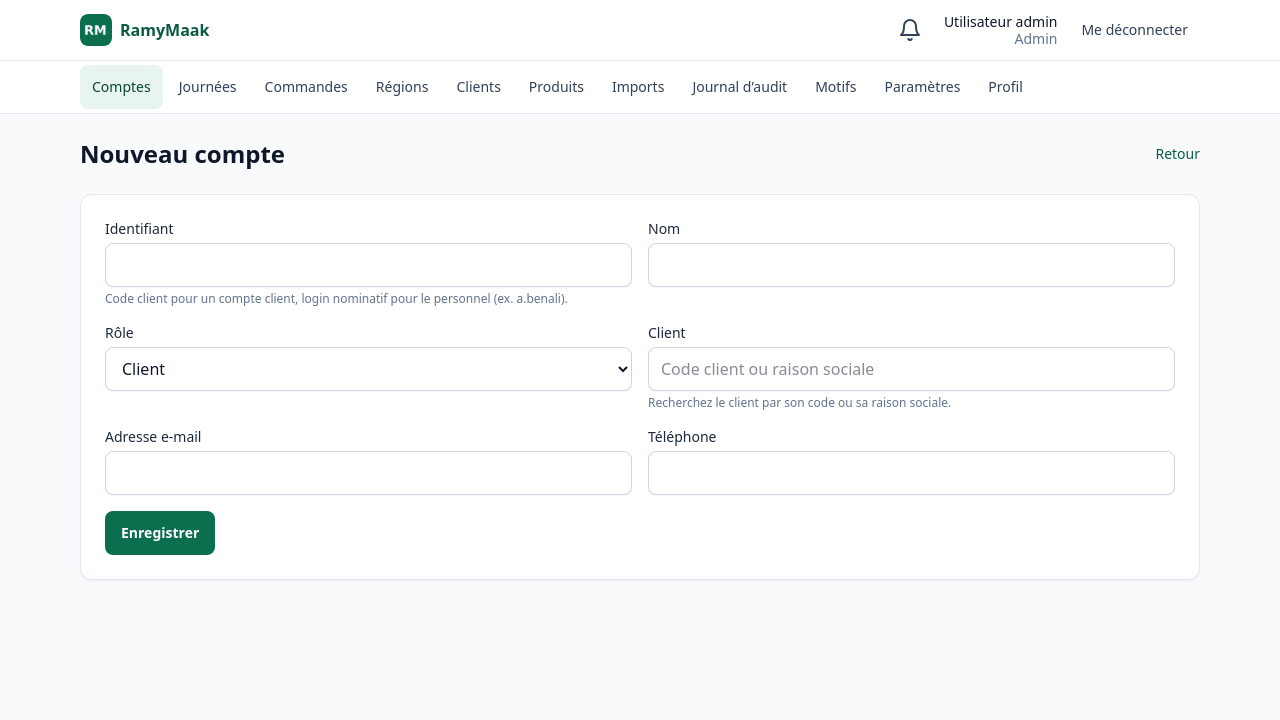
Test: admin — accounts › creates an account and shows the temporary password once
Type "C0012" into the field labelled "Identifiant". click: (368,265)
box: [105,243,632,287]
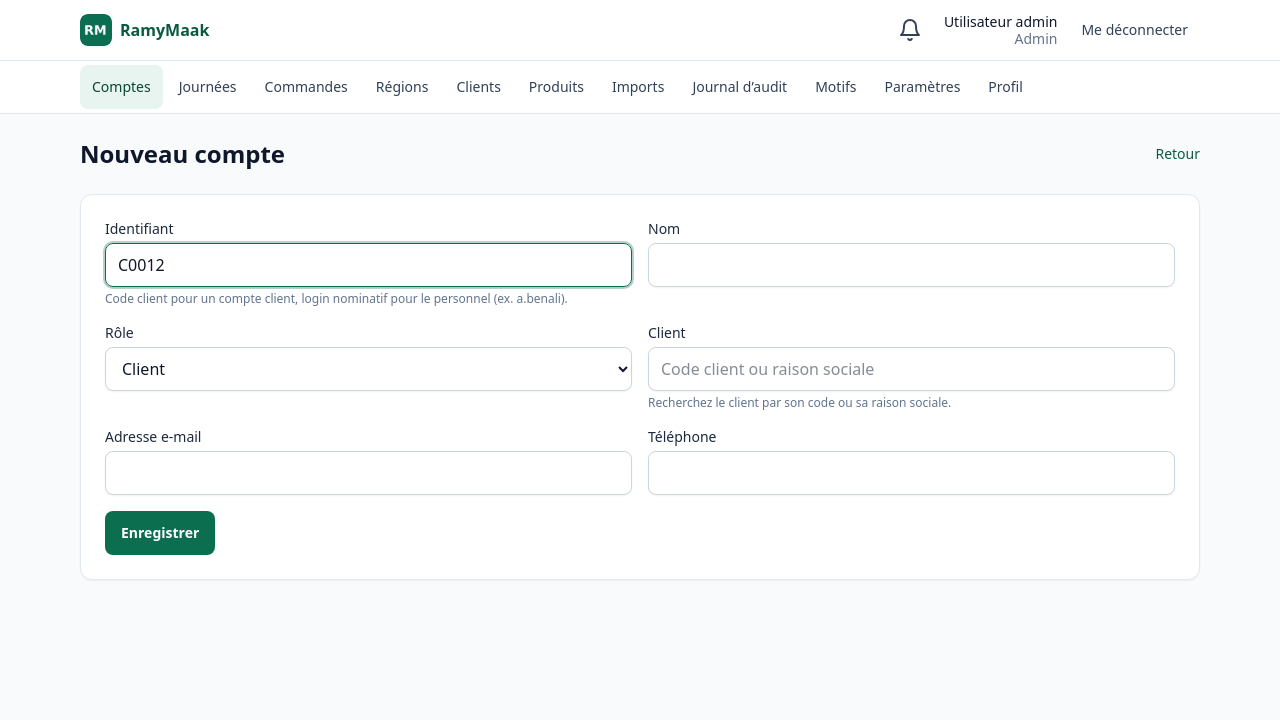
Type "Superette El Baraka" into the field labelled "Nom". click: (912,265)
box: [648,243,1175,287]
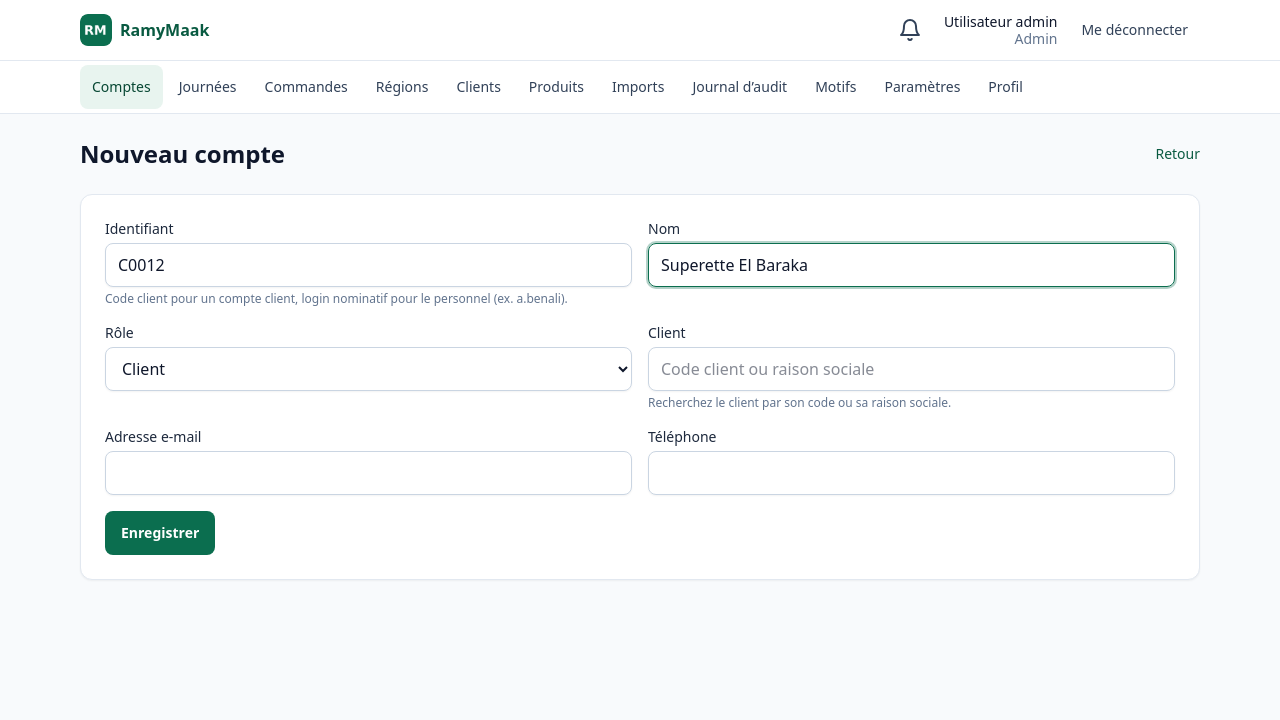
Type "baraka" into the search field labelled "Client". click: (912,369)
box: [648,347,1175,391]
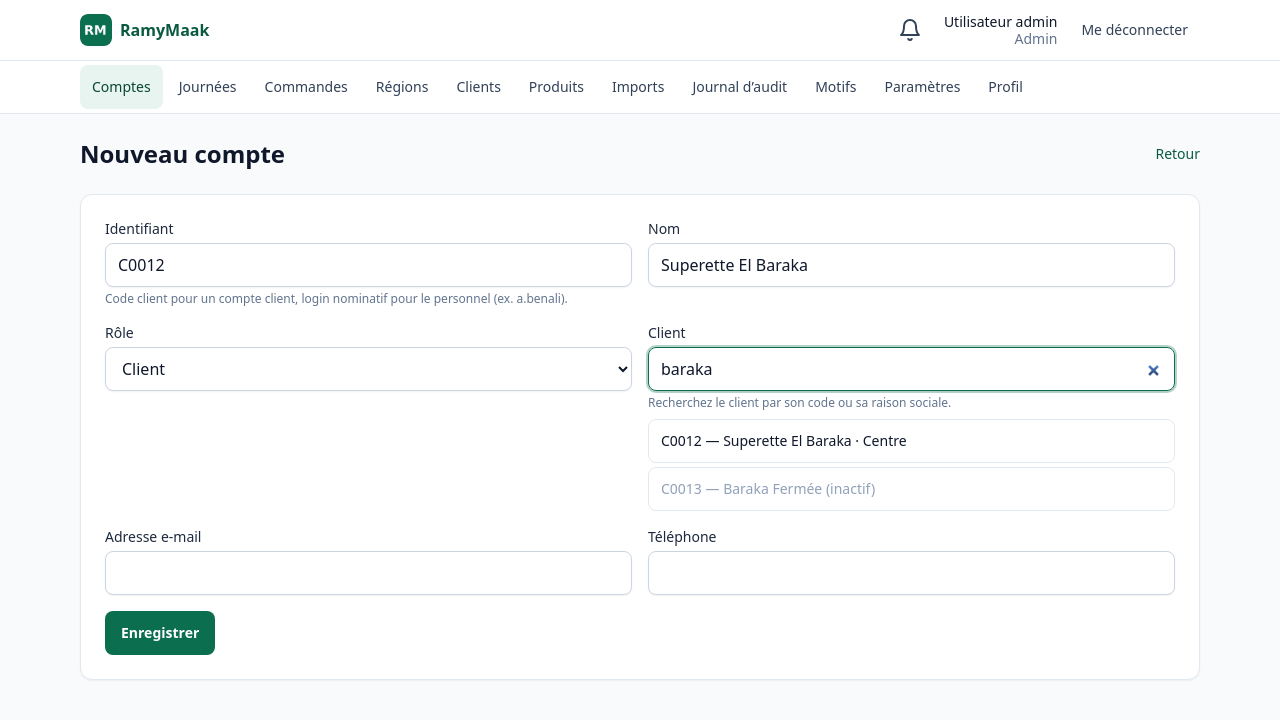
Expected: the button "C0013 — Baraka Fermée (inactif)" is disabled, [648,467,1175,511]
Click the button "C0012 — Superette El Baraka · Centre". click: (784,440)
box: [648,419,1175,463]
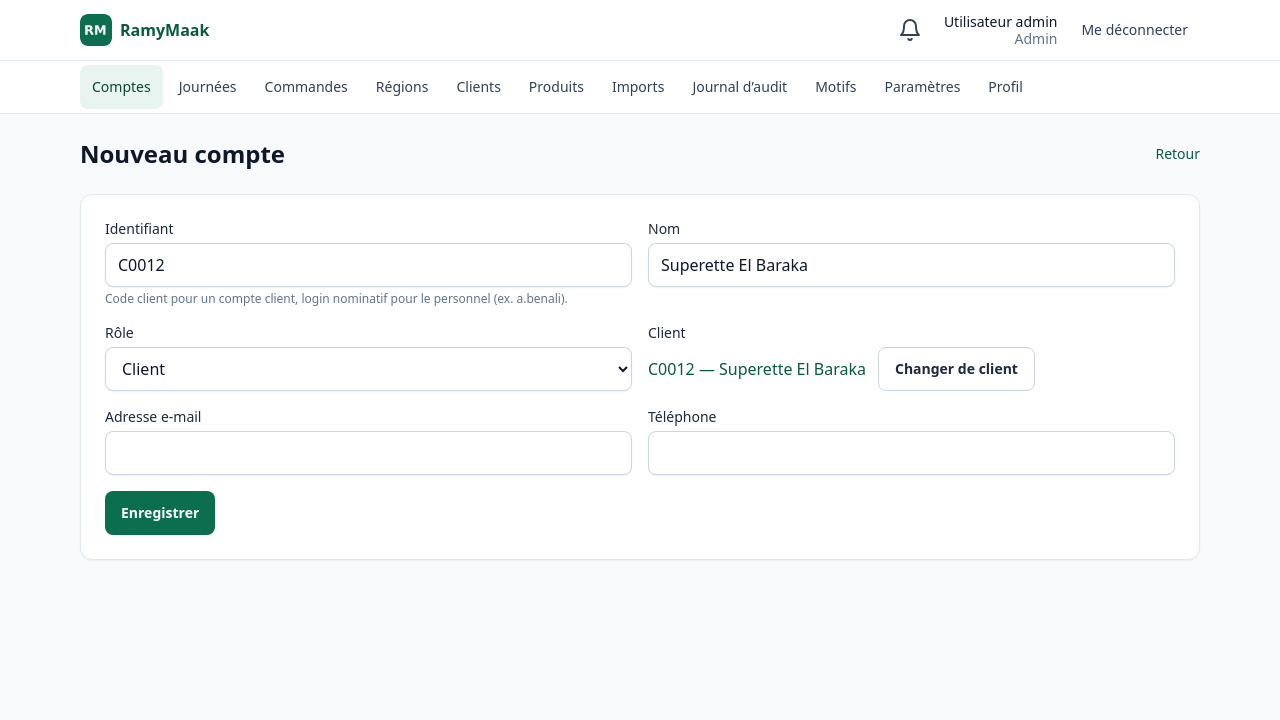
Click the button "Enregistrer". click: (160,513)
box: [105,491,215,535]
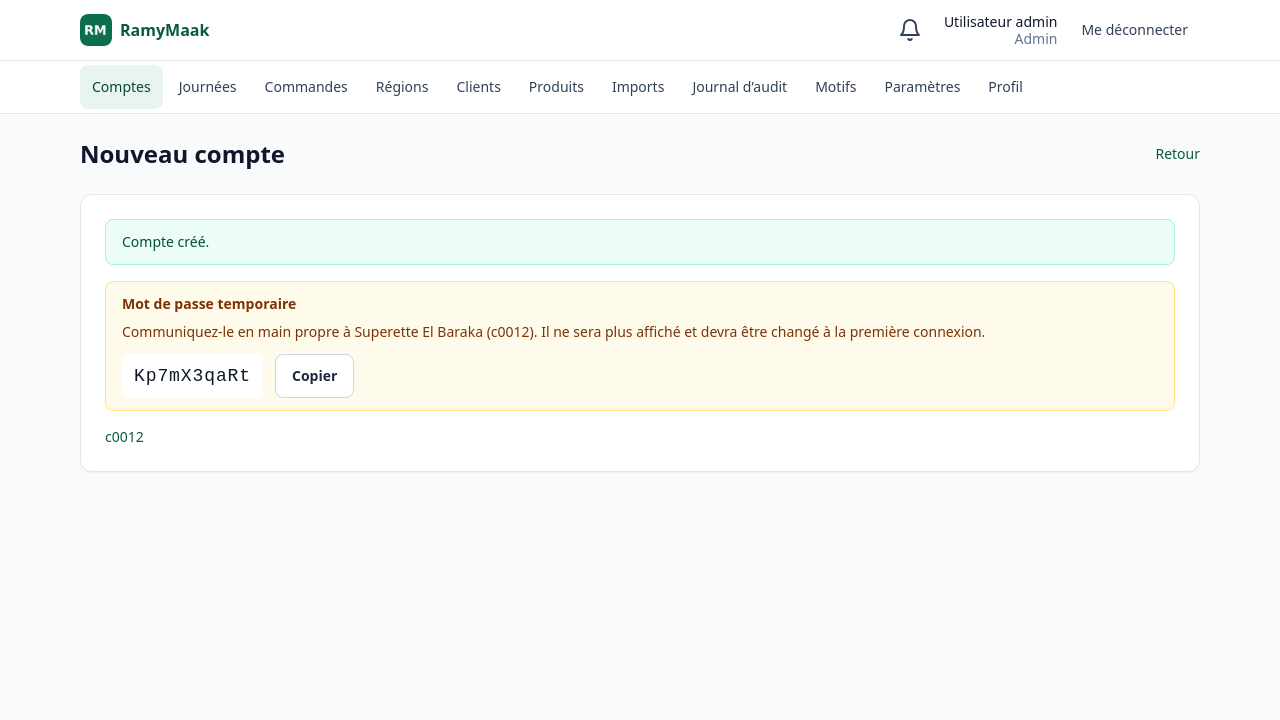
Expected: the text with test id "temporary-password" reads "Kp7mX3qaRt", [134,366,251,386]
